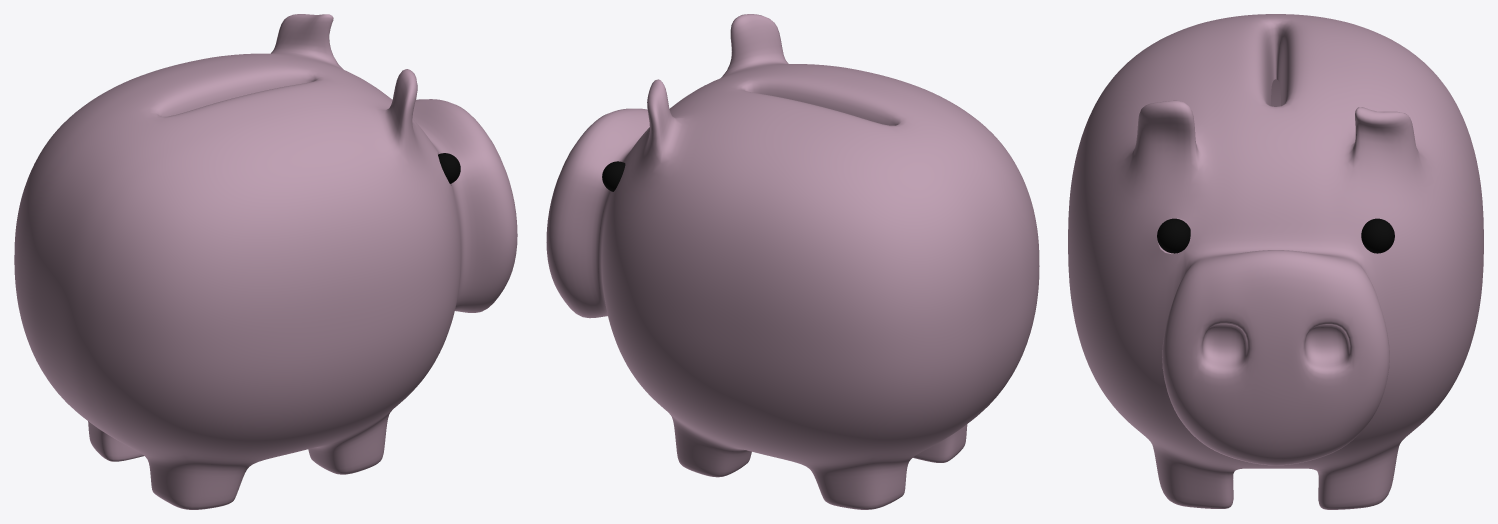
File: swinka.fbx
3 views of the same model, side by side, from view 1: azimuth 30°, elevation 25°; view 2: azimuth 150°, elevation 25°; view 3: azimuth 270°, elevation 25° (orthographic). The views are drawn at different scales.
Visible parts, largest first — view 1: pig; view 2: pig; view 3: pig.
Part boxes in pixels (x1,y1,x2,y2): pig: (14, 14, 517, 509); pig: (546, 14, 1039, 509); pig: (1068, 14, 1483, 509).
Bounding box in the file's own units: 1278 × 1089 × 972.
